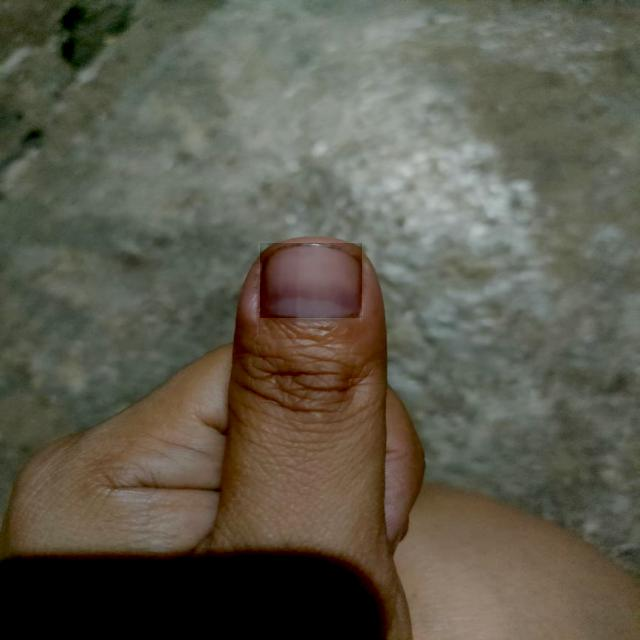sehat: (260, 244, 362, 318)
